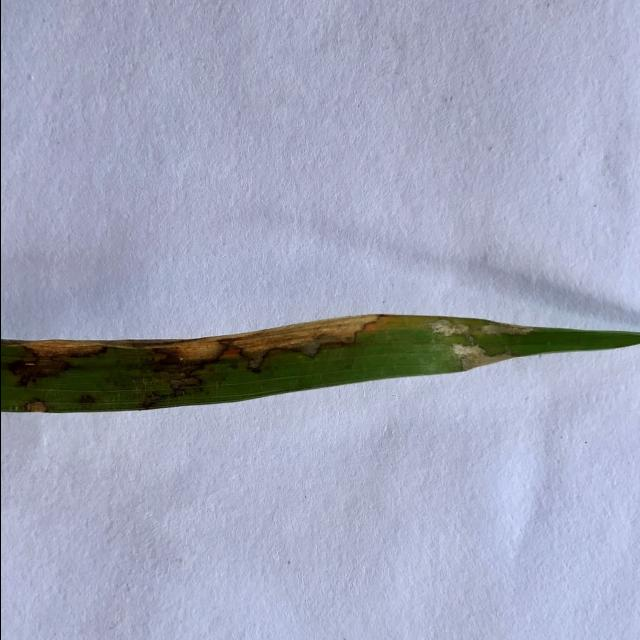Leaf Blight: (0, 314, 383, 375), (426, 317, 535, 336), (452, 345, 512, 373), (166, 375, 199, 389), (22, 400, 47, 413)
